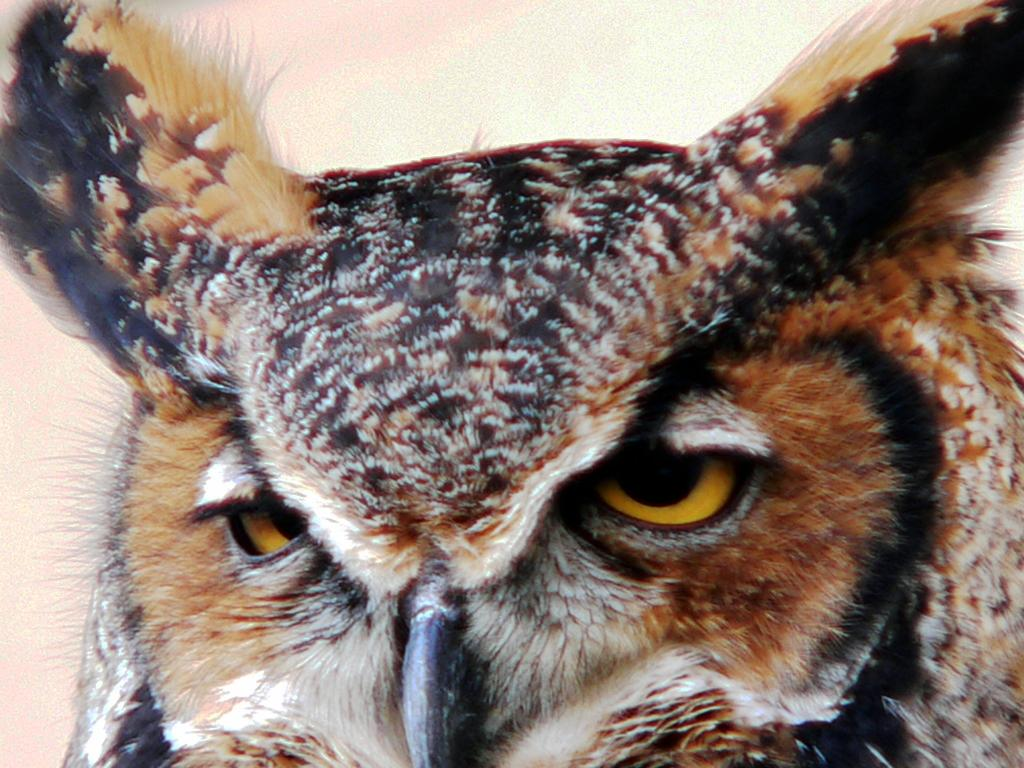Owl: (109, 120, 935, 736)
